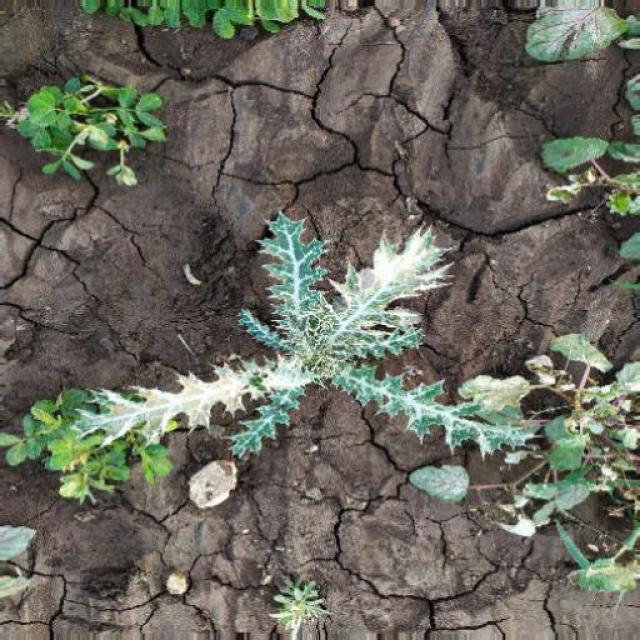weed: (1, 217, 588, 502), (7, 45, 166, 213)
